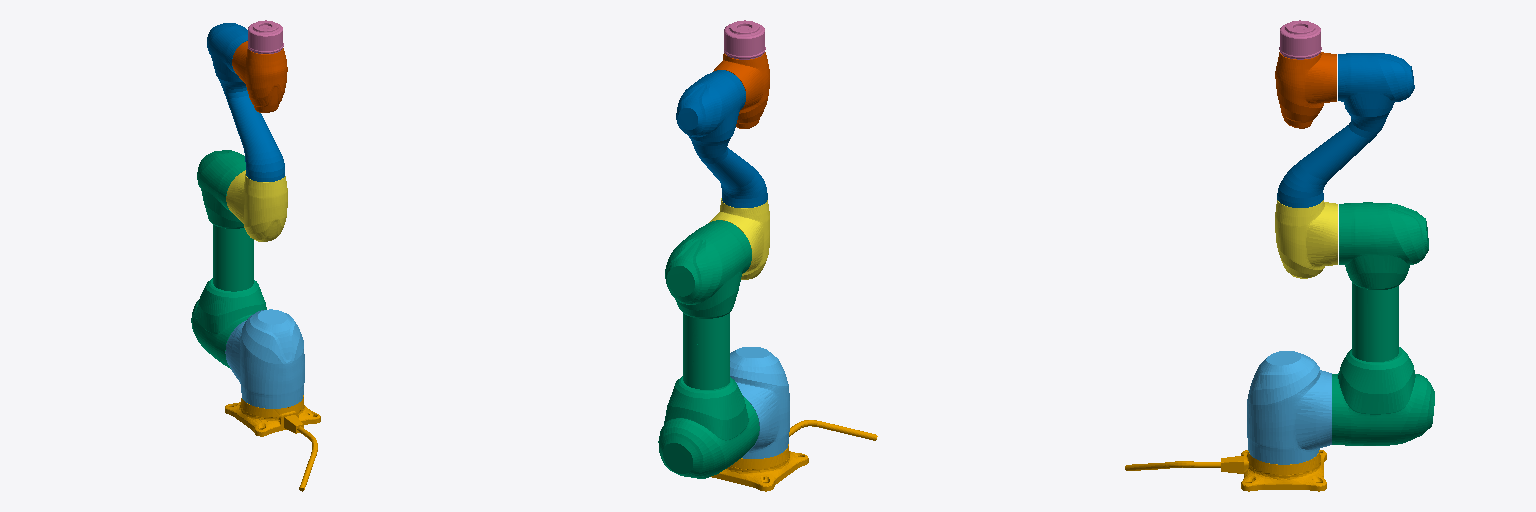
URDF robot description (m1509):
<?xml version="1.0" ?>
<!-- =================================================================================== -->
<!-- |    This document was autogenerated by xacro from /home/theochoi/ros2_ws/src/doosan-robot2-Theo/dsr_description2/xacro/m1509.urdf.xacro | -->
<!-- |    EDITING THIS FILE BY HAND IS NOT RECOMMENDED                                 | -->
<!-- =================================================================================== -->
<robot name="m1509">

    <mujoco>
        <compiler 
        meshdir="assets" 
        balanceinertia="true" 
        discardvisual="false" />
  </mujoco>

  
  <material name="black">
    <color rgba="0.0 0.0 0.0 1.0"/>
  </material>
  <material name="white">
    <color rgba="1.0 1.0 1.0 1.0"/>
  </material>
  <material name="orange">
    <color rgba="1.0 0.4 0.0 1.0"/>
  </material>
  <material name="dr_gray">
    <color rgba="0.490 0.490 0.486 1.0"/>
  </material>
  <material name="dr_white">
    <color rgba="0.941 0.941 0.941 1.0"/>
  </material>
  <material name="dr_blue">
    <color rgba="0 0 0.15 1"/>
  </material>
  <link name="base_link">
    <inertial>
      <mass value="4.12"/>
      <origin xyz="-3.4e-05   -0.004815    0.048482"/>
      <inertia ixx="0.016805" ixy="-5.5036e-06" ixz="2.7445e-06" iyy="0.016834" iyz="-0.00051575" izz="0.022647"/>
    </inertial>
    <collision>
      <origin rpy="0 0 0" xyz="0 0 0"/>
      <geometry>
        <mesh filename="MF1509_0_0.stl" scale="0.001 0.001 0.001"/>
      </geometry>
    </collision>
    <visual>
      <origin rpy="0 0 0" xyz="0 0 0"/>
      <geometry>
        <mesh filename="MF1509_0_0.stl" scale="0.001 0.001 0.001"/>
      </geometry>
    </visual>
  </link>
  <!-- joint 1 -->
  <joint name="joint_1" type="revolute">
    <parent link="base_link"/>
    <child link="link_1"/>
    <origin rpy="0 0 0" xyz="0 0 0.1525"/>
    <axis xyz="0 0 1"/>
    <limit effort="346" lower="-6.2832" upper="6.2832" velocity="2.618"/>
    <dynamics friction="0"/>
  </joint>
  <link name="link_1">
    <inertial>
      <mass value="7.8"/>
      <origin xyz="0.000119      0.0428   -0.006382"/>
      <inertia ixx="0.047481" ixy="4.2706e-05" ixz="-5.3678e-05" iyy="0.030766" iyz="-0.0019938" izz="0.047461"/>
    </inertial>
    <collision>
      <origin rpy="0 0 0" xyz="0 0 0"/>
      <geometry>
        <mesh filename="MF1509_1_0.stl" scale="0.001 0.001 0.001"/>
      </geometry>
    </collision>
    <visual>
      <origin rpy="0 0 0" xyz="0 0 0"/>
      <geometry>
        <mesh filename="MF1509_1_0.stl" scale="0.001 0.001 0.001"/>
      </geometry>
    </visual>
  </link>
  <!-- joint2 -->
  <joint name="joint_2" type="revolute">
    <parent link="link_1"/>
    <child link="link_2"/>
    <origin rpy="0 -1.571 -1.571" xyz="0 0.0345 0"/>
    <axis xyz="0 0 1"/>
    <limit effort="346" lower="-6.2832" upper="6.2832" velocity="2.618"/>
    <dynamics friction="0"/>
  </joint>
  <link name="link_2">
    <inertial>
      <mass value="10.06"/>
      <origin xyz="0.17059    -5.8e-05     0.15734"/>
      <inertia ixx="0.037059" ixy="-0.00023967" ixz="-0.0049921" iyy="0.3701" iyz="4.2201e-05" izz="0.36866"/>
    </inertial>
    <collision>
      <origin rpy="0 0 0" xyz="0 0 0"/>
      <geometry>
        <mesh filename="MF1509_2_0.stl" scale="0.001 0.001 0.001"/>
      </geometry>
    </collision>
    <visual>
      <origin rpy="0 0 0" xyz="0 0 0"/>
      <geometry>
        <mesh filename="MF1509_2_0.stl" scale="0.001 0.001 0.001"/>
      </geometry>
    </visual>
    <collision>
      <origin rpy="0 0 0" xyz="0 0 0"/>
      <geometry>
        <mesh filename="MF1509_2_1.stl" scale="0.001 0.001 0.001"/>
      </geometry>
    </collision>
    <visual>
      <origin rpy="0 0 0" xyz="0 0 0"/>
      <geometry>
        <mesh filename="MF1509_2_1.stl" scale="0.001 0.001 0.001"/>
      </geometry>
    </visual>
    <collision>
      <origin rpy="0 0 0" xyz="0 0 0"/>
      <geometry>
        <mesh filename="MF1509_2_2.stl" scale="0.001 0.001 0.001"/>
      </geometry>
    </collision>
    <visual>
      <origin rpy="0 0 0" xyz="0 0 0"/>
      <geometry>
        <mesh filename="MF1509_2_2.stl" scale="0.001 0.001 0.001"/>
      </geometry>
    </visual>
  </link>
  <!-- joint3 -->
  <joint name="joint_3" type="revolute">
    <parent link="link_2"/>
    <child link="link_3"/>
    <origin rpy="0 0 1.571" xyz="0.411 0 0"/>
    <axis xyz="0 0 1"/>
    <limit effort="163" lower="-2.618" upper="2.618" velocity="3.1416"/>
    <dynamics friction="0"/>
  </joint>
  <link name="link_3">
    <inertial>
      <mass value="3.68"/>
      <origin xyz="-1.5e-05    -0.00671    0.044632"/>
      <inertia ixx="0.019496" ixy="1.0207e-05" ixz="-4.6541e-06" iyy="0.015303" iyz="-0.00099648" izz="0.011095"/>
    </inertial>
    <collision>
      <origin rpy="0 0 0" xyz="0 0 0"/>
      <geometry>
        <mesh filename="MF1509_3_0.stl" scale="0.001 0.001 0.001"/>
      </geometry>
    </collision>
    <visual>
      <origin rpy="0 0 0" xyz="0 0 0"/>
      <geometry>
        <mesh filename="MF1509_3_0.stl" scale="0.001 0.001 0.001"/>
      </geometry>
    </visual>
  </link>
  <!-- joint4 -->
  <joint name="joint_4" type="revolute">
    <parent link="link_3"/>
    <child link="link_4"/>
    <origin rpy="1.571 0 0" xyz="0 -0.368 0"/>
    <axis xyz="0 0 1"/>
    <limit effort="50" lower="-6.2832" upper="6.2832" velocity="3.927"/>
    <dynamics friction="0"/>
  </joint>
  <link name="link_4">
    <inertial>
      <mass value="3.59"/>
      <origin xyz="3.9e-05     0.09731     -0.1096"/>
      <inertia ixx="0.082012" ixy="-5.6458e-06" ixz="-8.1419e-06" iyy="0.06358" iyz="-0.028995" izz="0.025281"/>
    </inertial>
    <collision>
      <origin rpy="0 0 0" xyz="0 0 0"/>
      <geometry>
        <mesh filename="MF1509_4_0.stl" scale="0.001 0.001 0.001"/>
      </geometry>
    </collision>
    <visual>
      <origin rpy="0 0 0" xyz="0 0 0"/>
      <geometry>
        <mesh filename="MF1509_4_0.stl" scale="0.001 0.001 0.001"/>
      </geometry>
    </visual>
    <collision>
      <origin rpy="0 0 0" xyz="0 0 0"/>
      <geometry>
        <mesh filename="MF1509_4_1.stl" scale="0.001 0.001 0.001"/>
      </geometry>
    </collision>
    <visual>
      <origin rpy="0 0 0" xyz="0 0 0"/>
      <geometry>
        <mesh filename="MF1509_4_1.stl" scale="0.001 0.001 0.001"/>
      </geometry>
    </visual>
  </link>
  <!-- joint5 -->
  <joint name="joint_5" type="revolute">
    <parent link="link_4"/>
    <child link="link_5"/>
    <origin rpy="-1.571 0 0" xyz="0 0 0"/>
    <axis xyz="0 0 1"/>
    <limit effort="50" lower="-6.2832" upper="6.2832" velocity="3.927"/>
    <dynamics friction="0"/>
  </joint>
  <link name="link_5">
    <inertial>
      <mass value="2.83"/>
      <origin xyz="-6.9e-05    0.003827    0.032006"/>
      <inertia ixx="0.016871" ixy="1.9694e-05" ixz="2.9684e-06" iyy="0.013767" iyz="0.00044631" izz="0.0097685"/>
    </inertial>
    <collision>
      <origin rpy="0 0 0" xyz="0 0 0"/>
      <geometry>
        <mesh filename="MF1509_5_0.stl" scale="0.001 0.001 0.001"/>
      </geometry>
    </collision>
    <visual>
      <origin rpy="0 0 0" xyz="0 0 0"/>
      <geometry>
        <mesh filename="MF1509_5_0.stl" scale="0.001 0.001 0.001"/>
      </geometry>
    </visual>
  </link>
  <!-- joint6 -->
  <joint name="joint_6" type="revolute">
    <parent link="link_5"/>
    <child link="link_6"/>
    <origin rpy="1.571 0 0" xyz="0 -0.121 0"/>
    <axis xyz="0 0 1"/>
    <limit effort="50" lower="-6.2832" upper="6.2832" velocity="3.927"/>
    <dynamics friction="0"/>
  </joint>
  <link name="link_6">
    <inertial>
      <mass value="1.16"/>
      <origin xyz="-3.2e-05       8e-06     -0.0539"/>
      <inertia ixx="0.0048523" ixy="2.7941e-06" ixz="4.9172e-06" iyy="0.0047546" iyz="3.1535e-06" izz="0.0071373"/>
    </inertial>
    <collision>
      <origin rpy="0 0 0" xyz="0 0 0"/>
      <geometry>
        <mesh filename="MF1509_6_0.stl" scale="0.001 0.001 0.001"/>
      </geometry>
    </collision>
    <visual>
      <origin rpy="0 0 0" xyz="0 0 0"/>
      <geometry>
        <mesh filename="MF1509_6_0.stl" scale="0.001 0.001 0.001"/>
      </geometry>
    </visual>
  </link>
  <!-- Transmission 1 -->
  <transmission name="tran1">
    <type>transmission_interface/SimpleTransmission</type>
    <joint name="joint1">
      <hardwareInterface>hardware_interface/PositionJointInterface</hardwareInterface>
    </joint>
    <actuator name="motor1">
      <hardwareInterface>hardware_interface/PositionJointInterface</hardwareInterface>
      <mechanicalReduction>1</mechanicalReduction>
    </actuator>
  </transmission>
  <!-- Transmission 2 -->
  <transmission name="tran2">
    <type>transmission_interface/SimpleTransmission</type>
    <joint name="joint2">
      <hardwareInterface>hardware_interface/PositionJointInterface</hardwareInterface>
    </joint>
    <actuator name="motor2">
      <hardwareInterface>hardware_interface/PositionJointInterface</hardwareInterface>
      <mechanicalReduction>1</mechanicalReduction>
    </actuator>
  </transmission>
  <!-- Transmission 3 -->
  <transmission name="tran3">
    <type>transmission_interface/SimpleTransmission</type>
    <joint name="joint3">
      <hardwareInterface>hardware_interface/PositionJointInterface</hardwareInterface>
    </joint>
    <actuator name="motor3">
      <hardwareInterface>hardware_interface/PositionJointInterface</hardwareInterface>
      <mechanicalReduction>1</mechanicalReduction>
    </actuator>
  </transmission>
  <!-- Transmission 4 -->
  <transmission name="tran4">
    <type>transmission_interface/SimpleTransmission</type>
    <joint name="joint4">
      <hardwareInterface>hardware_interface/PositionJointInterface</hardwareInterface>
    </joint>
    <actuator name="motor4">
      <hardwareInterface>hardware_interface/PositionJointInterface</hardwareInterface>
      <mechanicalReduction>1</mechanicalReduction>
    </actuator>
  </transmission>
  <!-- Transmission 5 -->
  <transmission name="tran5">
    <type>transmission_interface/SimpleTransmission</type>
    <joint name="joint5">
      <hardwareInterface>hardware_interface/PositionJointInterface</hardwareInterface>
    </joint>
    <actuator name="motor5">
      <hardwareInterface>hardware_interface/PositionJointInterface</hardwareInterface>
      <mechanicalReduction>1</mechanicalReduction>
    </actuator>
  </transmission>
  <!-- Transmission 6 -->
  <transmission name="tran6">
    <type>transmission_interface/SimpleTransmission</type>
    <joint name="joint6">
      <hardwareInterface>hardware_interface/PositionJointInterface</hardwareInterface>
    </joint>
    <actuator name="motor6">
      <hardwareInterface>hardware_interface/PositionJointInterface</hardwareInterface>
      <mechanicalReduction>1</mechanicalReduction>
    </actuator>
  </transmission>
  <!-- ros_control plugin -->
  <gazebo>
    <plugin filename="ign_ros2_control-system" name="ign_ros2_control::IgnitionROS2ControlPlugin">
      <ros>
        <namespace></namespace>
      </ros>
      <parameters>/home/theochoi/ros2_ws/install/dsr_controller2/share/dsr_controller2/config/dsr_controller2_gz.yaml</parameters>
    </plugin>
  </gazebo>
  <!-- Base -->
  <gazebo reference="base_0">
    <kp>100000.0</kp>
    <kd>100.0</kd>
    <mu1>30.0</mu1>
    <mu2>30.0</mu2>
    <maxVel>1.0</maxVel>
    <minDepth>0.001</minDepth>
  </gazebo>
  <!-- Link1 -->
  <gazebo reference="link1">
    <kp>100000.0</kp>
    <kd>100.0</kd>
    <mu1>30.0</mu1>
    <mu2>30.0</mu2>
    <maxVel>1.0</maxVel>
    <minDepth>0.001</minDepth>
  </gazebo>
  <!-- Link2 -->
  <gazebo reference="link2">
    <kp>100000.0</kp>
    <kd>100.0</kd>
    <mu1>30.0</mu1>
    <mu2>30.0</mu2>
    <maxVel>1.0</maxVel>
    <minDepth>0.001</minDepth>
  </gazebo>
  <!-- Link3 -->
  <gazebo reference="link3">
    <kp>100000.0</kp>
    <kd>100.0</kd>
    <mu1>30.0</mu1>
    <mu2>30.0</mu2>
    <maxVel>1.0</maxVel>
    <minDepth>0.001</minDepth>
  </gazebo>
  <!-- Link4 -->
  <gazebo reference="link4">
    <kp>100000.0</kp>
    <kd>100.0</kd>
    <mu1>30.0</mu1>
    <mu2>30.0</mu2>
    <maxVel>1.0</maxVel>
    <minDepth>0.001</minDepth>
  </gazebo>
  <!-- Link5 -->
  <gazebo reference="link5">
    <kp>100000.0</kp>
    <kd>100.0</kd>
    <mu1>30.0</mu1>
    <mu2>30.0</mu2>
    <maxVel>1.0</maxVel>
    <minDepth>0.001</minDepth>
  </gazebo>
  <!-- Link6 -->
  <gazebo reference="link6">
    <kp>100000.0</kp>
    <kd>100.0</kd>
    <mu1>30.0</mu1>
    <mu2>30.0</mu2>
    <maxVel>1.0</maxVel>
    <minDepth>0.001</minDepth>
  </gazebo>
  <!-- World fixed joint-->
  <link name="world"/>
  <joint name="world_fixed" type="fixed">
    <origin rpy="0 0 0" xyz="0 0 0"/>
    <parent link="world"/>
    <child link="base_link"/>
  </joint>
  <ros2_control name="m1509" type="system">
    <hardware>
      <plugin>dsr_hardware2/DRHWInterface</plugin>
      <param name="host"></param>
      <param name="rt_host"></param>
      <param name="port"></param>
      <param name="mode"></param>
      <param name="model"></param>
    </hardware>
    <joint name="joint_1">
      <command_interface name="position">
        <param name="min">{-2*pi}</param>
        <param name="max">{2*pi}</param>
      </command_interface>
      <command_interface name="velocity">
        <param name="min">-3.15</param>
        <param name="max">3.15</param>
      </command_interface>
      <state_interface name="position">
        <param name="initial_value">0.0</param>
      </state_interface>
      <state_interface name="velocity"/>
    </joint>
    <joint name="joint_2">
      <command_interface name="position">
        <param name="min">{-2*pi}</param>
        <param name="max">{2*pi}</param>
      </command_interface>
      <command_interface name="velocity">
        <param name="min">-3.15</param>
        <param name="max">3.15</param>
      </command_interface>
      <state_interface name="position">
        <param name="initial_value">0.0</param>
      </state_interface>
      <state_interface name="velocity"/>
    </joint>
    <joint name="joint_3">
      <command_interface name="position">
        <param name="min">{-pi}</param>
        <param name="max">{pi}</param>
      </command_interface>
      <command_interface name="velocity">
        <param name="min">-3.15</param>
        <param name="max">3.15</param>
      </command_interface>
      <state_interface name="position">
        <param name="initial_value">0.0</param>
      </state_interface>
      <state_interface name="velocity"/>
    </joint>
    <joint name="joint_4">
      <command_interface name="position">
        <param name="min">{-2*pi}</param>
        <param name="max">{2*pi}</param>
      </command_interface>
      <command_interface name="velocity">
        <param name="min">-3.2</param>
        <param name="max">3.2</param>
      </command_interface>
      <state_interface name="position">
        <param name="initial_value">0.0</param>
      </state_interface>
      <state_interface name="velocity"/>
    </joint>
    <joint name="joint_5">
      <command_interface name="position">
        <param name="min">{-2*pi}</param>
        <param name="max">{2*pi}</param>
      </command_interface>
      <command_interface name="velocity">
        <param name="min">-3.2</param>
        <param name="max">3.2</param>
      </command_interface>
      <state_interface name="position">
        <param name="initial_value">0.0</param>
      </state_interface>
      <state_interface name="velocity"/>
    </joint>
    <joint name="joint_6">
      <command_interface name="position">
        <param name="min">{-2*pi}</param>
        <param name="max">{2*pi}</param>
      </command_interface>
      <command_interface name="velocity">
        <param name="min">-3.2</param>
        <param name="max">3.2</param>
      </command_interface>
      <state_interface name="position">
        <param name="initial_value">0.0</param>
      </state_interface>
      <state_interface name="velocity"/>
    </joint>
  </ros2_control>
</robot>

--- Render facts (derived) ---
3 views of the same robot in one strip: view 1: azimuth 30°, elevation 25°; view 2: azimuth 150°, elevation 25°; view 3: azimuth 270°, elevation 25° (orthographic).
Robot: m1509 — 8 links, 7 joints (6 revolute, 1 fixed); root link world; default pose: all joints at 0.
Links seen in each view (by area): view 1: link_2, link_1, link_4, link_3, link_5, base_link, link_6; view 2: link_2, link_4, link_1, base_link, link_5, link_3, link_6; view 3: link_2, link_1, link_4, link_3, link_5, base_link, link_6.
Link boxes in pixels (<box>): link_2: <box>191,150,266,368</box>; link_1: <box>225,309,304,408</box>; link_4: <box>207,23,284,181</box>; link_3: <box>226,170,287,241</box>; link_5: <box>232,41,287,112</box>; base_link: <box>225,395,320,491</box>; link_6: <box>248,20,283,53</box>; link_2: <box>658,220,759,478</box>; link_4: <box>676,70,767,207</box>; link_1: <box>730,347,789,458</box>; base_link: <box>711,420,877,491</box>; link_5: <box>713,52,769,128</box>; link_3: <box>709,198,769,279</box>; link_6: <box>724,20,765,59</box>; link_2: <box>1332,202,1434,445</box>; link_1: <box>1247,351,1331,464</box>; link_4: <box>1277,53,1414,207</box>; link_3: <box>1275,200,1337,278</box>; link_5: <box>1275,52,1336,128</box>; base_link: <box>1125,450,1326,491</box>; link_6: <box>1279,20,1321,59</box>.
Size in the robot's own frame: 0.2064 by 0.662 by 1.1 metres.
Meshes: 10 distinct files referenced, 10 mesh visuals loaded (10 binary STL).
